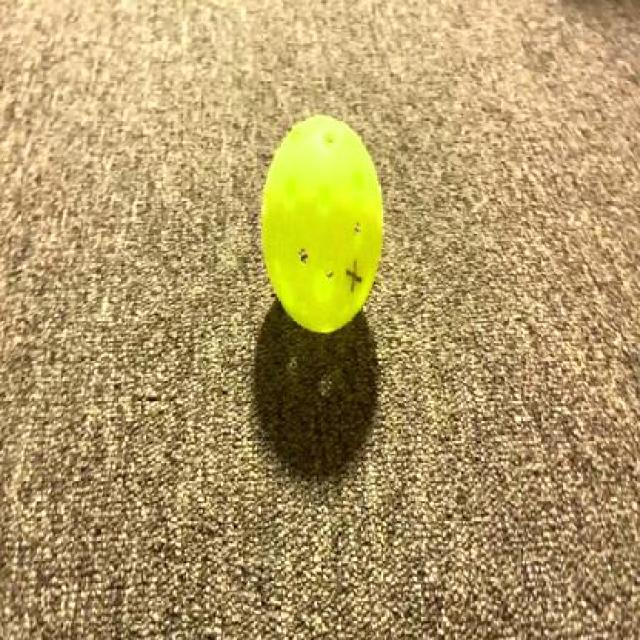ball: (246, 112, 406, 346)
